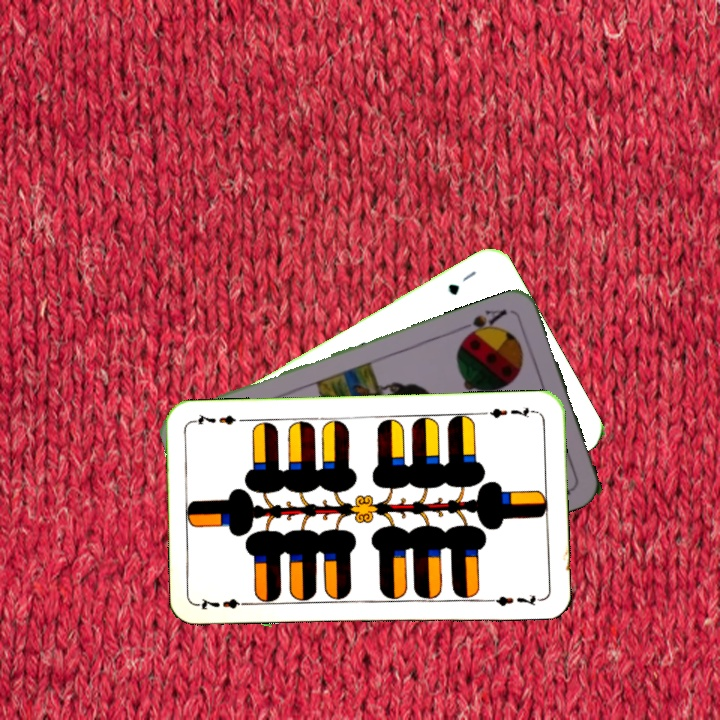E7: (480, 403, 539, 421), (195, 595, 254, 613)
GU: (443, 266, 479, 298)
SA: (455, 305, 510, 342)
